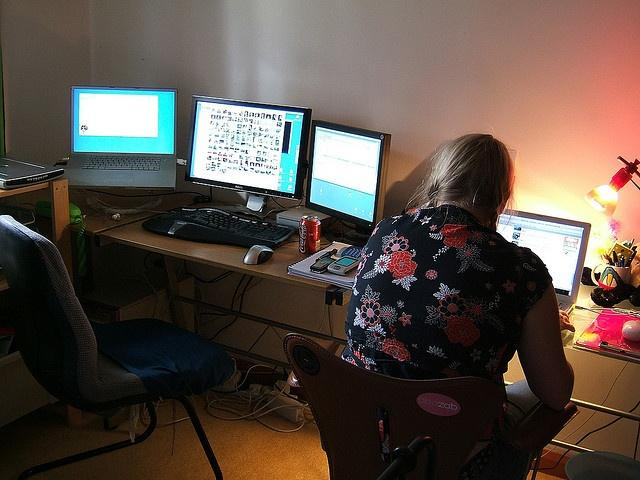AIO PC-Monitor-TV: (182, 94, 310, 200), (305, 119, 390, 228)
Kursi: (0, 215, 235, 411)
